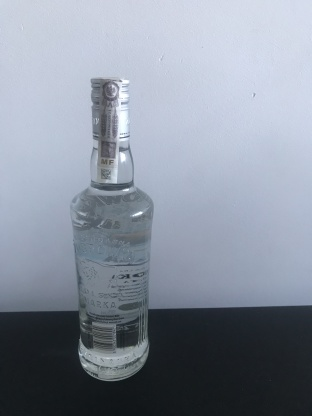nakretka: (87, 73, 134, 143)
